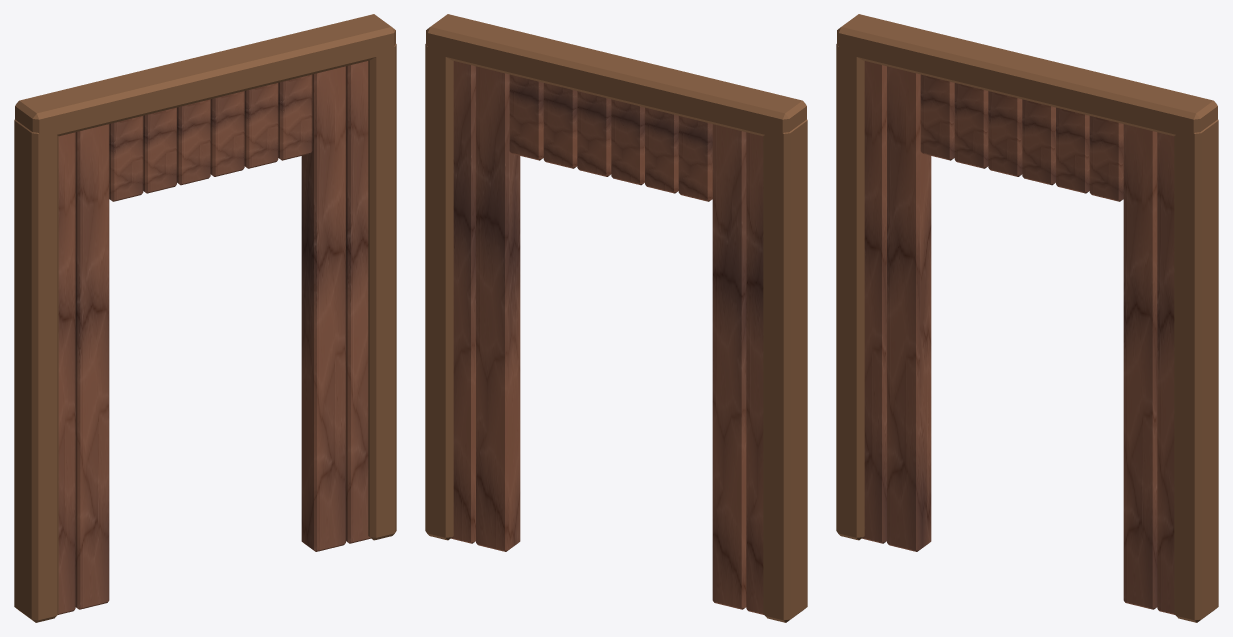
File: Wall_Door_2m.glb
3 renders of one model, left to right at view 1: azimuth 30°, elevation 25°; view 2: azimuth 150°, elevation 25°; view 3: azimuth 330°, elevation 25°, orthographic.
Visible parts, largest first — view 1: Wall_Door_2m__立方体.010, Wall_Door_2m__立方体.008, Wall_Door_2m__立方体.012, Wall_Door_2m__立方体.001, Wall_Door_2m__立方体.011, Wall_Door_2m__立方体.009, Wall_Door_2m__立方体, Wall_Door_2m__立方体.007, Wall_Door_2m__立方体.002, Wall_Door_2m__立方体.005, Wall_Door_2m__立方体.006, Wall_Door_2m__立方体.003 (+1 smaller); view 2: Wall_Door_2m__立方体.010, Wall_Door_2m__立方体.008, Wall_Door_2m__立方体.012, Wall_Door_2m__立方体.001, Wall_Door_2m__立方体.011, Wall_Door_2m__立方体.009, Wall_Door_2m__立方体, Wall_Door_2m__立方体.007, Wall_Door_2m__立方体.002, Wall_Door_2m__立方体.005, Wall_Door_2m__立方体.006, Wall_Door_2m__立方体.003 (+1 smaller); view 3: Wall_Door_2m__立方体.011, Wall_Door_2m__立方体.001, Wall_Door_2m__立方体.012, Wall_Door_2m__立方体.008, Wall_Door_2m__立方体.010, Wall_Door_2m__立方体, Wall_Door_2m__立方体.009, Wall_Door_2m__立方体.002, Wall_Door_2m__立方体.003, Wall_Door_2m__立方体.004, Wall_Door_2m__立方体.007, Wall_Door_2m__立方体.005 (+1 smaller).
Boxes of the visible parts, x1,y1,x2,y2 form: Wall_Door_2m__立方体.010: (14, 119, 58, 622); Wall_Door_2m__立方体.008: (301, 66, 345, 551); Wall_Door_2m__立方体.012: (15, 14, 395, 138); Wall_Door_2m__立方体.001: (75, 124, 109, 609); Wall_Door_2m__立方体.011: (368, 44, 396, 540); Wall_Door_2m__立方体.009: (346, 61, 370, 543); Wall_Door_2m__立方体: (58, 132, 75, 614); Wall_Door_2m__立方体.007: (278, 74, 312, 160); Wall_Door_2m__立方体.002: (109, 116, 143, 201); Wall_Door_2m__立方体.005: (210, 91, 244, 176); Wall_Door_2m__立方体.006: (244, 83, 278, 168); Wall_Door_2m__立方体.003: (143, 107, 176, 193); Wall_Door_2m__立方体.010: (763, 119, 807, 622); Wall_Door_2m__立方体.008: (476, 66, 520, 551); Wall_Door_2m__立方体.012: (426, 14, 806, 138); Wall_Door_2m__立方体.001: (712, 124, 746, 609); Wall_Door_2m__立方体.011: (425, 44, 453, 540); Wall_Door_2m__立方体.009: (451, 61, 475, 543); Wall_Door_2m__立方体: (746, 132, 763, 614); Wall_Door_2m__立方体.007: (509, 74, 543, 160); Wall_Door_2m__立方体.002: (678, 116, 712, 201); Wall_Door_2m__立方体.005: (577, 91, 611, 176); Wall_Door_2m__立方体.006: (543, 83, 577, 168); Wall_Door_2m__立方体.003: (645, 107, 678, 193); Wall_Door_2m__立方体.011: (1174, 119, 1218, 622); Wall_Door_2m__立方体.001: (887, 66, 931, 551); Wall_Door_2m__立方体.012: (837, 14, 1217, 138); Wall_Door_2m__立方体.008: (1123, 124, 1157, 609); Wall_Door_2m__立方体.010: (836, 44, 864, 540); Wall_Door_2m__立方体: (862, 61, 886, 543); Wall_Door_2m__立方体.009: (1157, 132, 1174, 614); Wall_Door_2m__立方体.002: (920, 74, 954, 160); Wall_Door_2m__立方体.003: (954, 83, 988, 168); Wall_Door_2m__立方体.004: (988, 91, 1022, 176); Wall_Door_2m__立方体.007: (1089, 116, 1123, 201); Wall_Door_2m__立方体.005: (1022, 99, 1055, 185).
Size of the model in its own units: 2.16 by 2.88 by 0.23.
6 materials, 5 textured.
